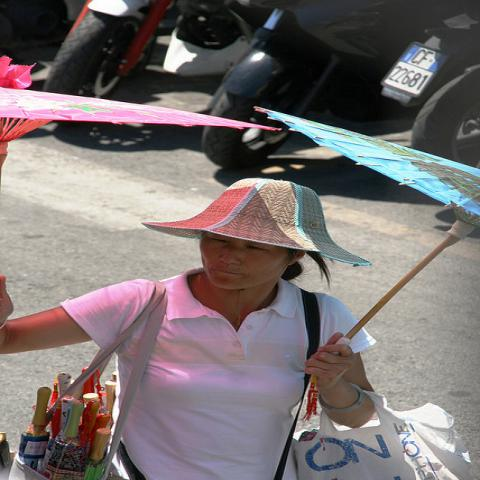motorcycle: (199, 1, 465, 170), (40, 0, 186, 99), (408, 63, 479, 168)
